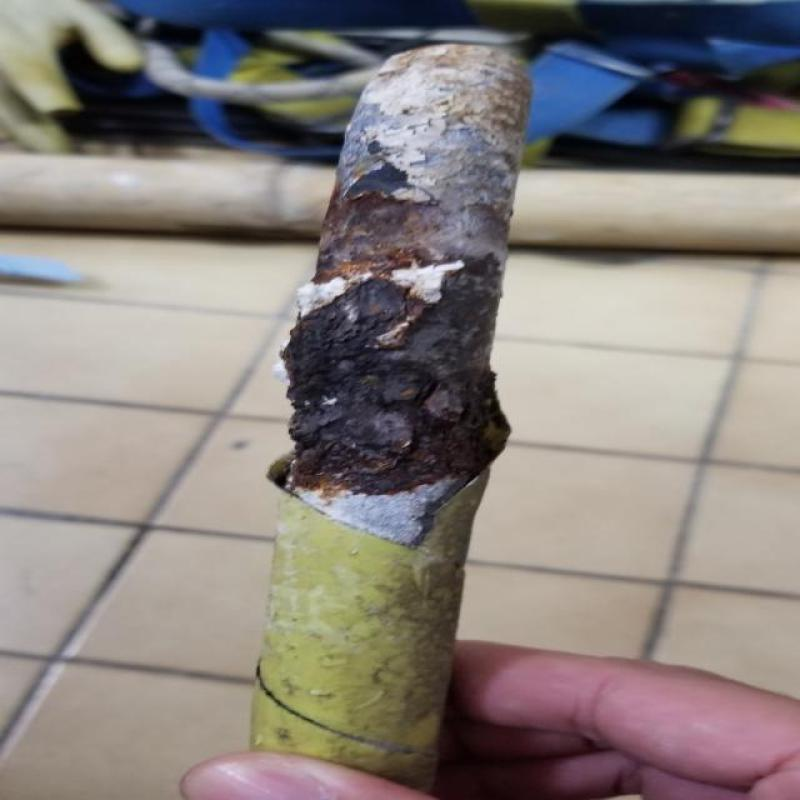corrosion: (285, 245, 490, 510)
